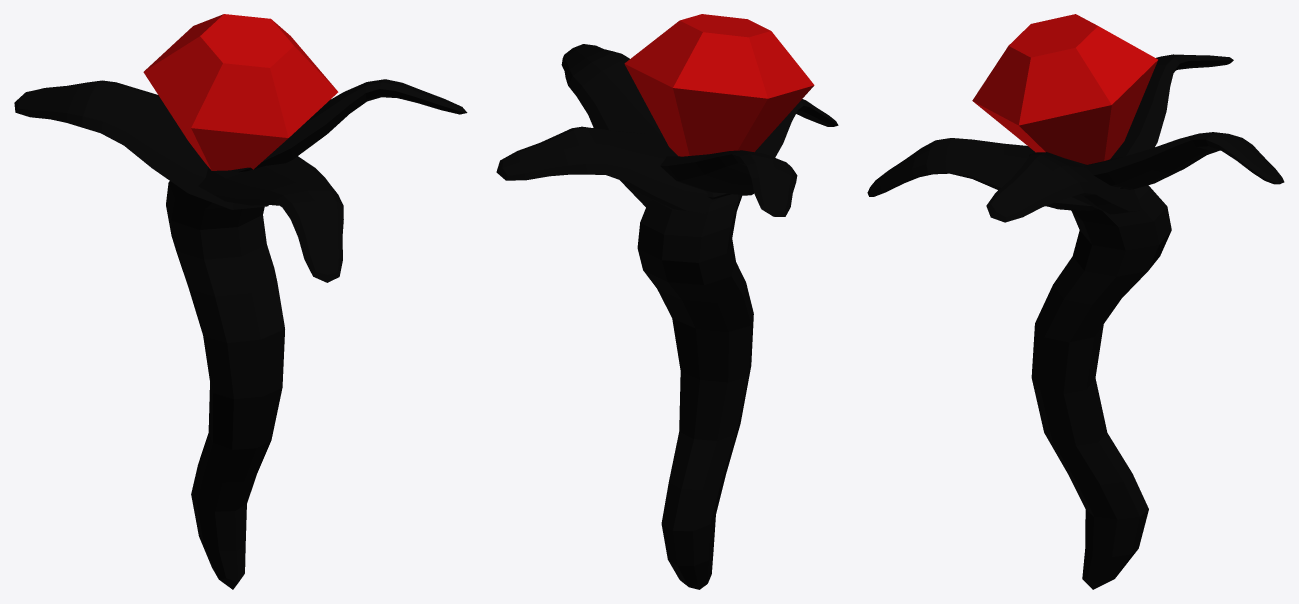
Rendered from barita.fbx.
3 views of the same model, side by side, from view 1: azimuth 30°, elevation 25°; view 2: azimuth 150°, elevation 25°; view 3: azimuth 270°, elevation 25° (orthographic). The views are drawn at different scales.
Visible parts, largest first — view 1: Cube.001; view 2: Cube.001; view 3: Cube.001.
Boxes of the visible parts, x1,y1,x2,y2 form: Cube.001: (14,14,467,589); Cube.001: (496,14,838,589); Cube.001: (867,14,1284,589).
Bounding box in the file's own units: 186 × 302 × 204.
